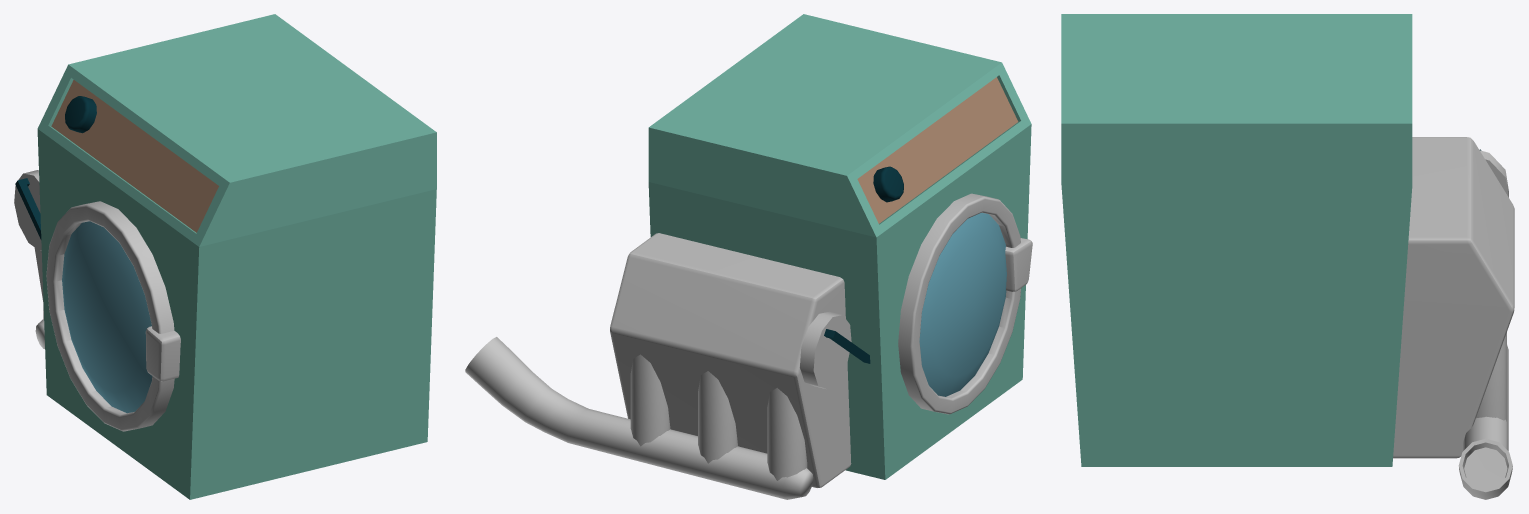
File: 02_WasmashieneMotor.fbx
3 views of the same model, side by side, from view 1: azimuth 30°, elevation 25°; view 2: azimuth 150°, elevation 25°; view 3: azimuth 270°, elevation 25° (orthographic). The views are drawn at different scales.
Parts seen in each view (by area): view 1: polySurface85; view 2: polySurface85; view 3: polySurface85.
Part boxes in pixels (left/top/right/bottom): polySurface85: left=14, top=14, right=436, bottom=499; polySurface85: left=465, top=14, right=1032, bottom=499; polySurface85: left=1061, top=14, right=1514, bottom=499.
Size of the model in its own units: 3.63 by 2.67 by 3.19.
